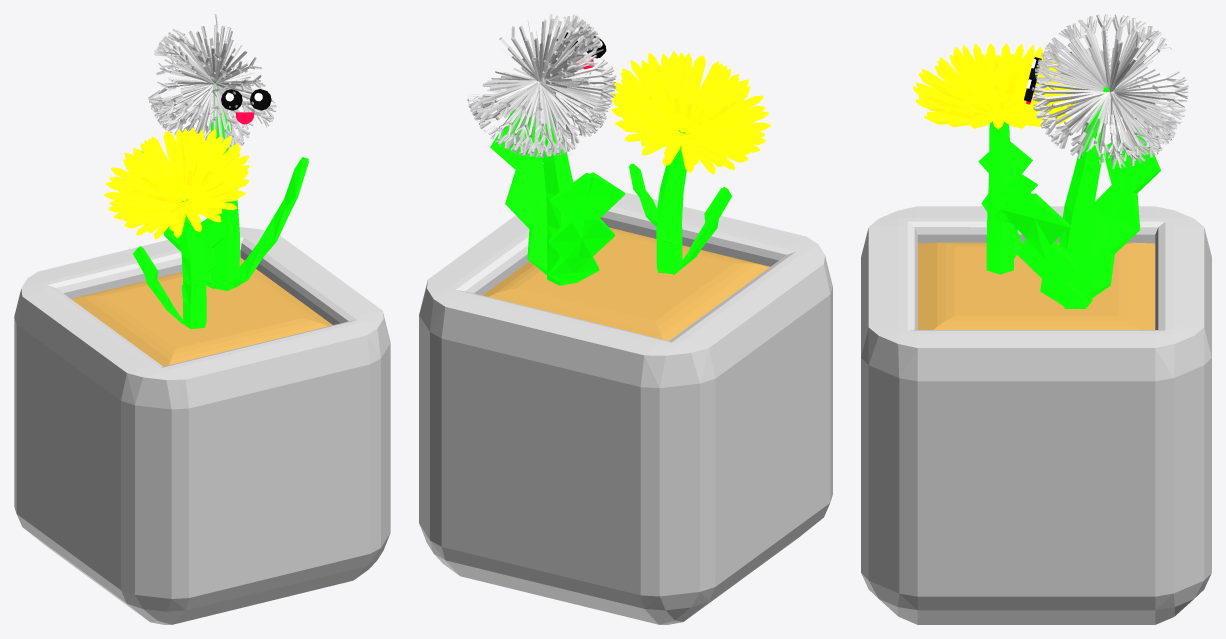
Rendered from STR_3D_dandelion_3.dae.
The picture shows the model from 3 angles, left to right: view 1: azimuth 30°, elevation 25°; view 2: azimuth 150°, elevation 25°; view 3: azimuth 270°, elevation 25°; orthographic projection. The views are drawn at different scales.
Parts seen in each view (by area): view 1: pot.002, soil.002, freesia_flower.001, Cylinder.003, Cylinder.007, Cylinder.006, Plane.008, Plane.006, Cylinder.004, Plane.005; view 2: pot.002, soil.002, freesia_flower.001, Cylinder.003, Plane.007, Plane.008, Cylinder.007, Cylinder.006, Plane.006, Plane.005; view 3: pot.002, Cylinder.003, soil.002, freesia_flower.001, Plane.007, Plane.008, Cylinder.006, Cylinder.007, Plane.005, Plane.006.
Part boxes in pixels (x1,y1,x2,y2): pot.002: [14, 227, 390, 624]; soil.002: [71, 257, 332, 366]; freesia_flower.001: [104, 127, 249, 239]; Cylinder.003: [148, 14, 276, 149]; Cylinder.007: [179, 199, 206, 328]; Cylinder.006: [210, 81, 239, 290]; Plane.008: [233, 157, 308, 287]; Plane.006: [133, 246, 187, 326]; Cylinder.004: [221, 89, 271, 124]; Plane.005: [181, 218, 224, 303]; pot.002: [419, 192, 832, 624]; soil.002: [483, 227, 769, 340]; freesia_flower.001: [611, 51, 770, 174]; Cylinder.003: [466, 14, 616, 157]; Plane.007: [548, 172, 625, 281]; Plane.008: [490, 109, 547, 274]; Cylinder.007: [656, 130, 689, 273]; Cylinder.006: [539, 116, 578, 285]; Plane.006: [671, 186, 731, 274]; Plane.005: [629, 163, 679, 248]; pot.002: [861, 206, 1211, 624]; Cylinder.003: [1031, 14, 1188, 168]; soil.002: [917, 242, 1155, 329]; freesia_flower.001: [913, 43, 1076, 129]; Plane.007: [1091, 129, 1160, 298]; Plane.008: [1001, 192, 1087, 308]; Cylinder.006: [1059, 86, 1109, 308]; Cylinder.007: [986, 121, 1014, 274]; Plane.005: [994, 173, 1037, 232]; Plane.006: [978, 141, 1032, 258].
Size of the model in its own units: 2 by 2 by 3.6.
